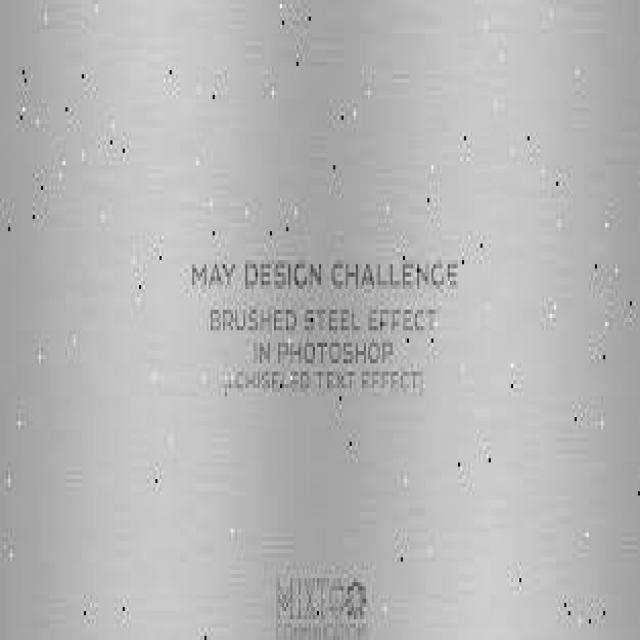ocr: (174, 239, 472, 417)
